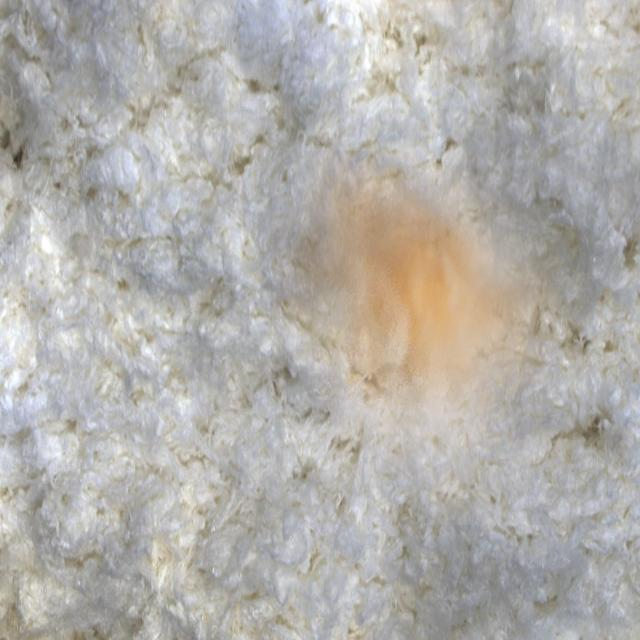dust: (270, 151, 560, 525)
